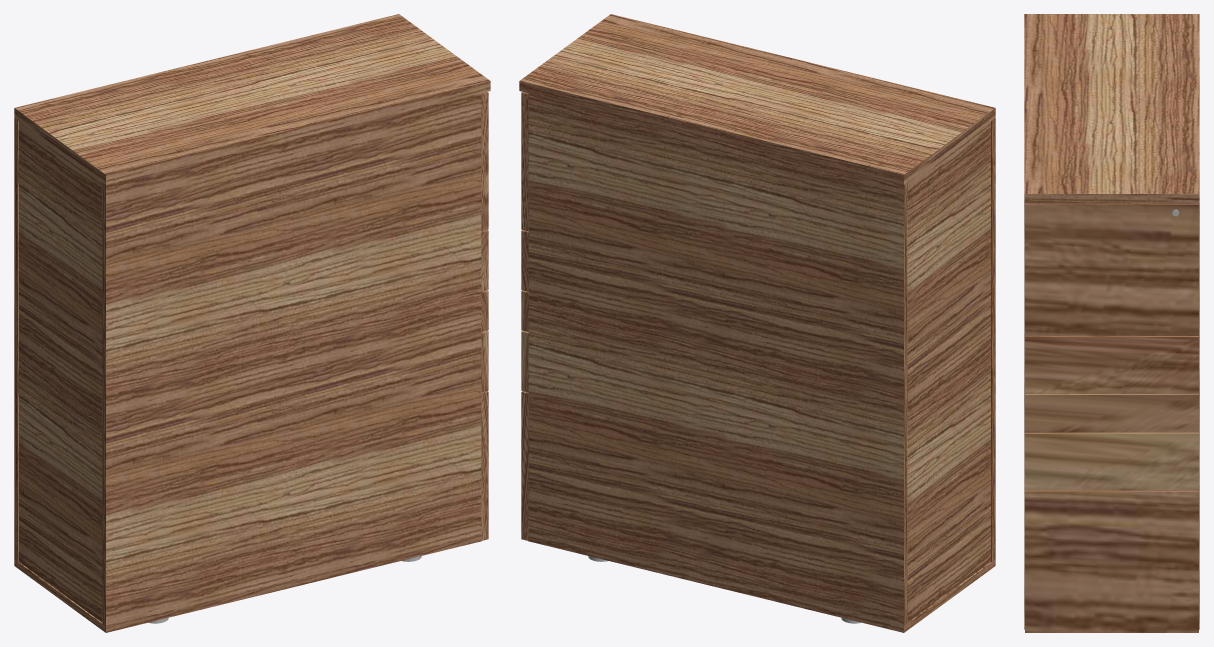
Rendered from high_cabinet_100_bez_handli_FINALPt.fbx.
3 renders of one model, left to right at view 1: azimuth 30°, elevation 25°; view 2: azimuth 150°, elevation 25°; view 3: azimuth 270°, elevation 25°, orthographic. The views are drawn at different scales.
Visible parts, largest first — view 1: drewno1_mesh, fronty_mesh; view 2: drewno1_mesh, fronty_mesh; view 3: fronty_mesh, drewno1_mesh.
Part boxes in pixels (x1,y1,x2,y2): drewno1_mesh: [14, 14, 490, 632]; fronty_mesh: [481, 92, 488, 540]; drewno1_mesh: [519, 14, 995, 632]; fronty_mesh: [521, 92, 528, 540]; fronty_mesh: [1025, 203, 1198, 632]; drewno1_mesh: [1024, 14, 1199, 629].
Size of the model in its own units: 100 by 116 by 41.2.
